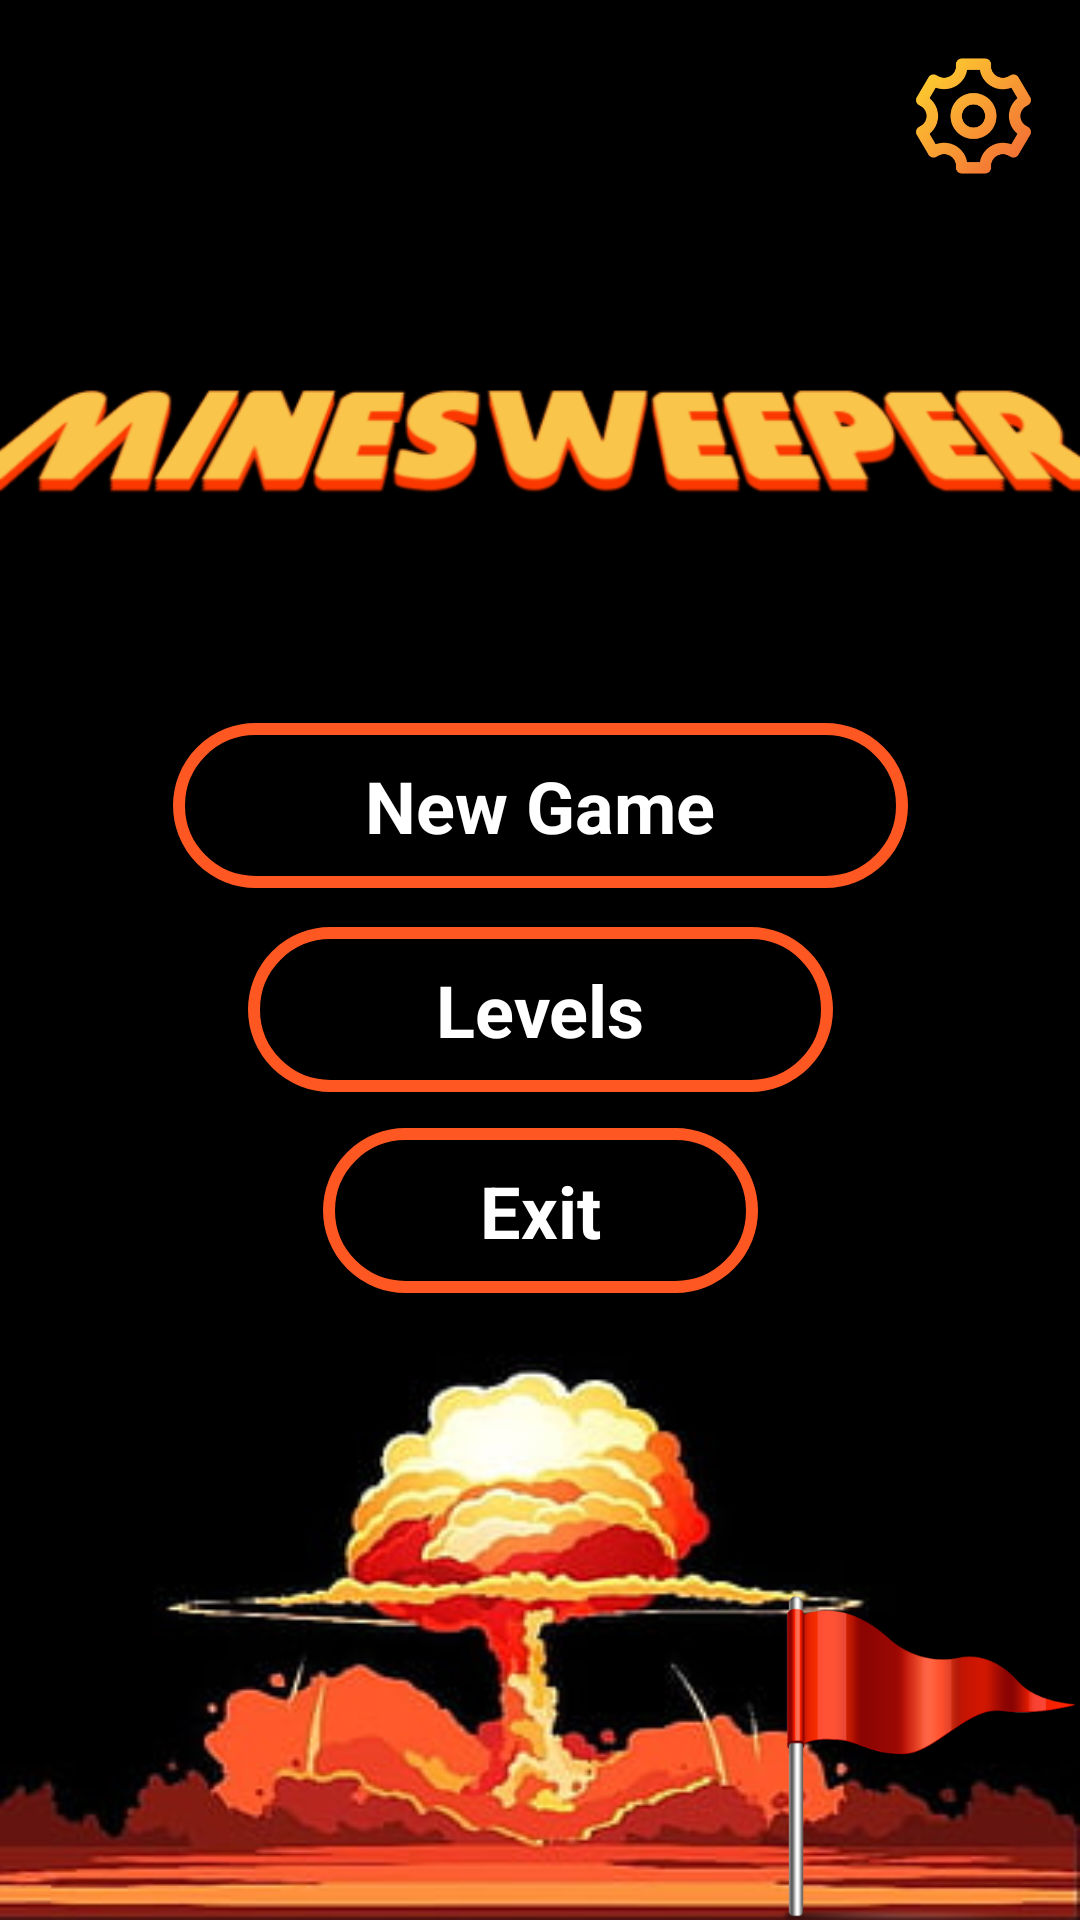

Icon bounding boxes for this 1080 x 1920 phone screenshot, format {"left": x1, "top": y1, "right": x2, "bottom": y2}:
Flag: {"left": 780, "top": 1589, "right": 1080, "bottom": 1920}
Settings icon: {"left": 916, "top": 58, "right": 1031, "bottom": 174}
